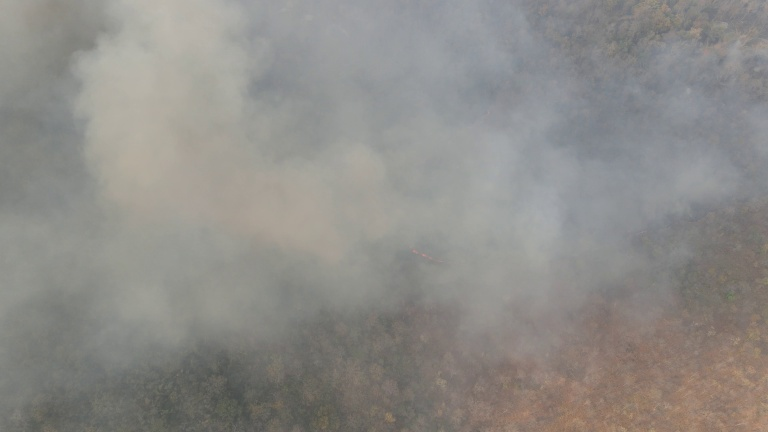fire: (404, 246, 456, 271)
smoke: (45, 4, 603, 352)
